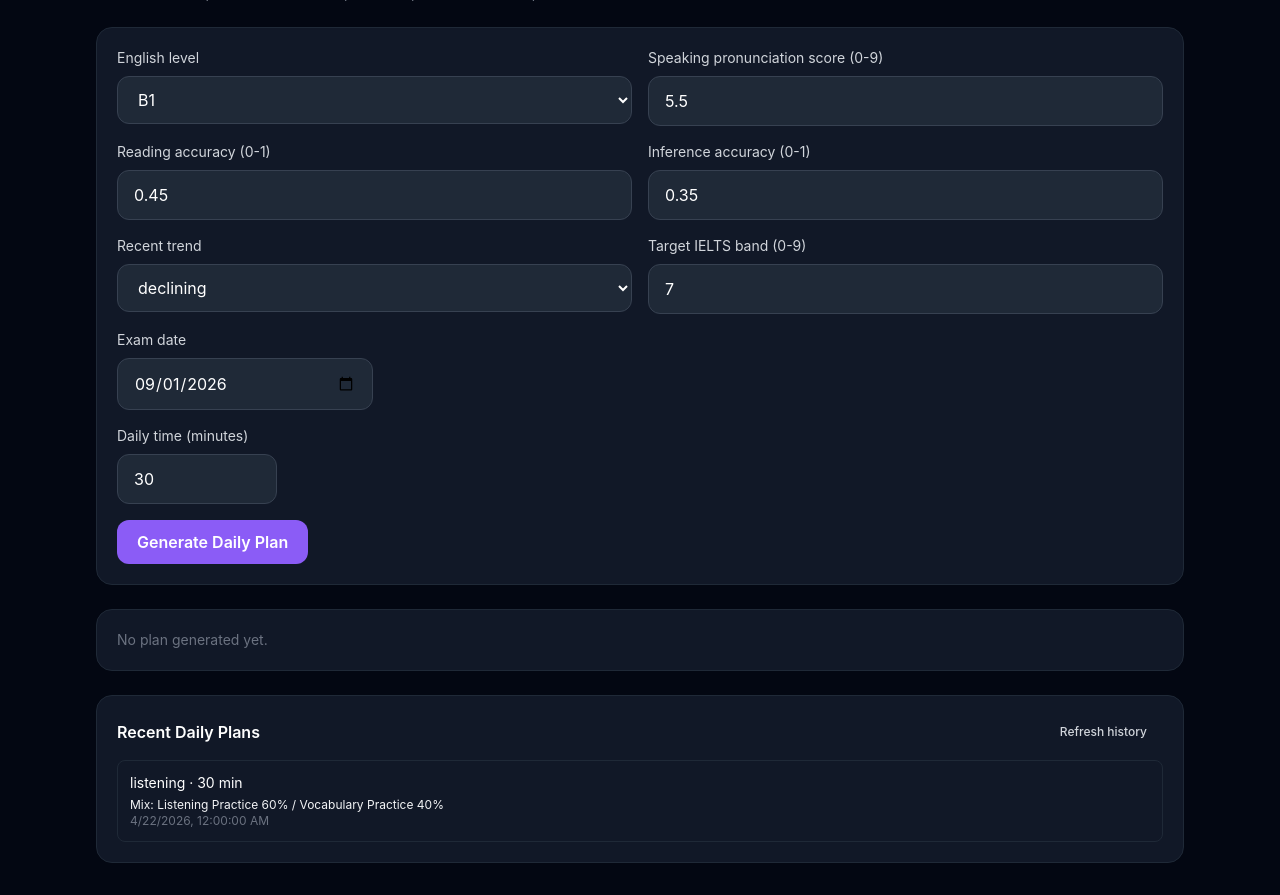
Scenario: DailyLearningPlanPage › renders history list and loads selected plan
(page scrolled)
Expected: the heading "Recent Daily Plans" is shown, [117,720,260,744]
Expected: the text "Mix: Listening Practice 60% / Vocabulary Practice 40%" is shown, [130,797,444,812]
Step 1. Click the button "listening · 30 min" → click(158, 782), box [117,760,1163,842]
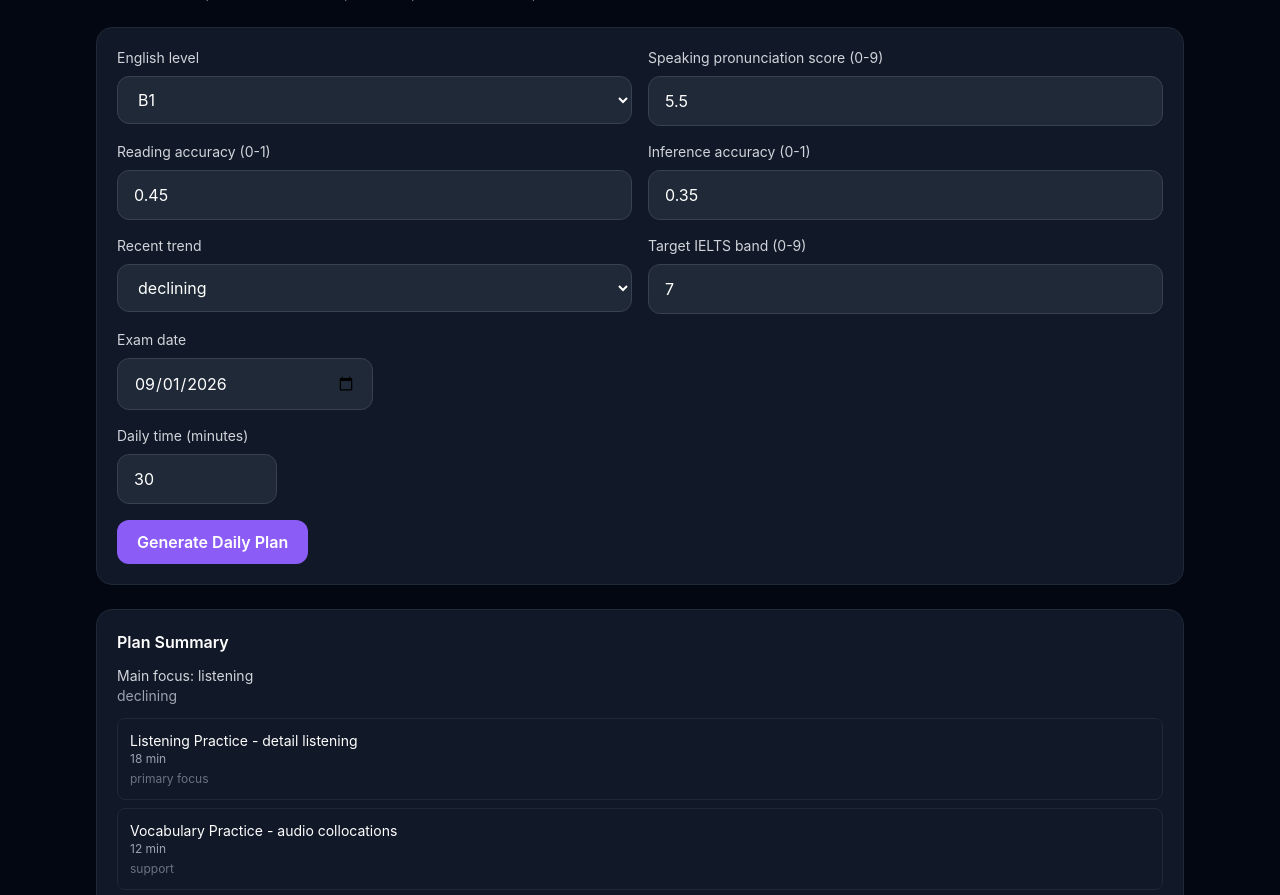
Result: the text "Main focus: listening" is shown at [117,667,253,684]
